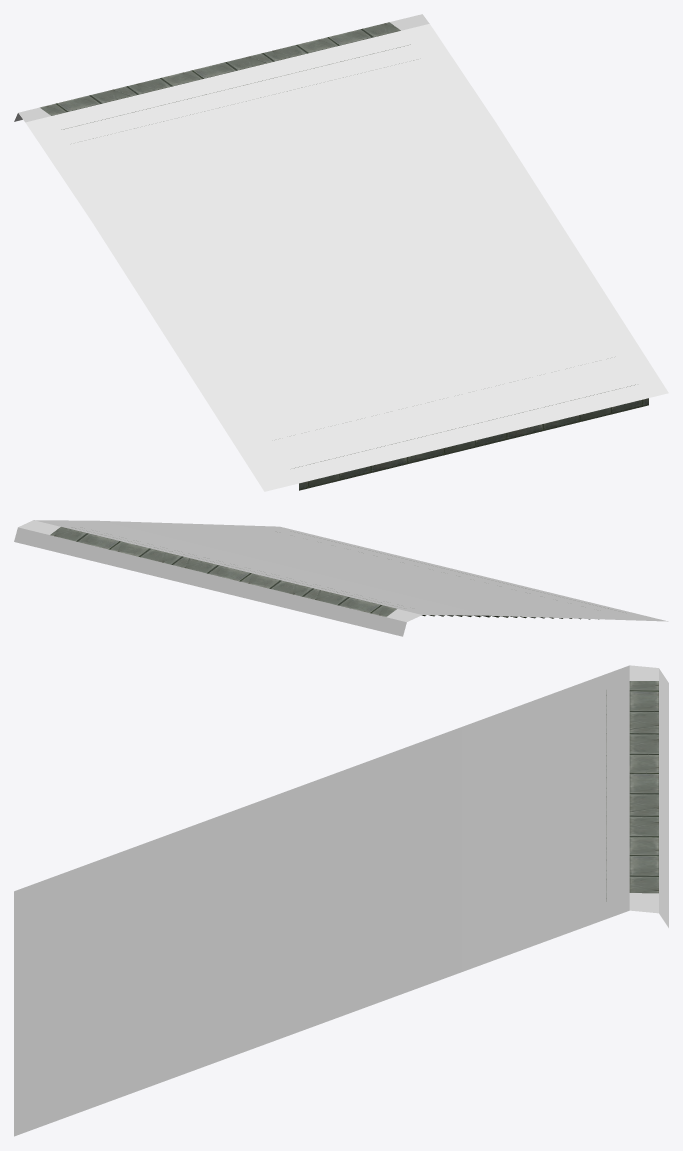
Rendered from JiaYeSi_LouTiyewai_1.FBX.
3 renders of one model, top to bottom at view 1: azimuth 30°, elevation 25°; view 2: azimuth 150°, elevation 25°; view 3: azimuth 270°, elevation 25°, orthographic. The views are drawn at different scales.
Parts seen in each view (by area): view 1: JiaYeSi_LouTiyewai_1_Xzm, JiaYeSi_LouTiyewai_1; view 2: JiaYeSi_LouTiyewai_1_Xzm, JiaYeSi_LouTiyewai_1; view 3: JiaYeSi_LouTiyewai_1_Xzm, JiaYeSi_LouTiyewai_1.
Boxes of the visible parts, x1,y1,x2,y2 form: JiaYeSi_LouTiyewai_1_Xzm: (14, 14, 668, 491); JiaYeSi_LouTiyewai_1: (40, 22, 648, 490); JiaYeSi_LouTiyewai_1_Xzm: (14, 520, 668, 636); JiaYeSi_LouTiyewai_1: (50, 527, 608, 619); JiaYeSi_LouTiyewai_1_Xzm: (14, 665, 668, 1136); JiaYeSi_LouTiyewai_1: (606, 681, 658, 901).
Bounding box in the file's own units: 3112 × 1378 × 3402.
